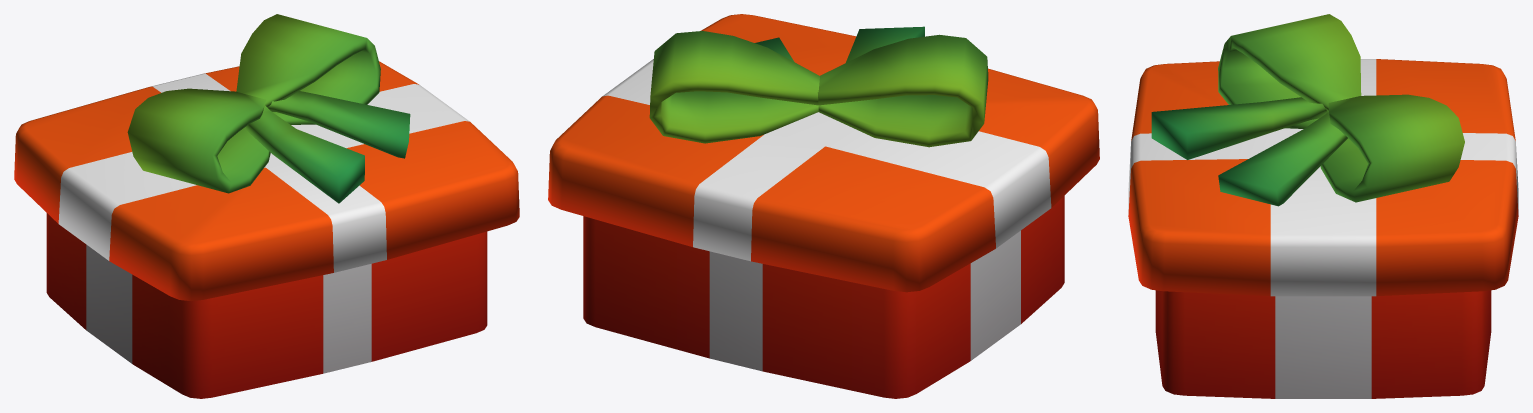
The model's file is Gift_Box_01.fbx.
3 views of the same model, side by side, from view 1: azimuth 30°, elevation 25°; view 2: azimuth 150°, elevation 25°; view 3: azimuth 270°, elevation 25° (orthographic). The views are drawn at different scales.
Visible parts, largest first — view 1: Gift_Box_01; view 2: Gift_Box_01; view 3: Gift_Box_01.
Boxes of the visible parts, x1=… form: Gift_Box_01: x1=14, y1=14, x2=519, y2=398; Gift_Box_01: x1=548, y1=14, x2=1099, y2=398; Gift_Box_01: x1=1128, y1=14, x2=1518, y2=398.
Size of the model in its own units: 37.34 by 22.59 by 33.03.
